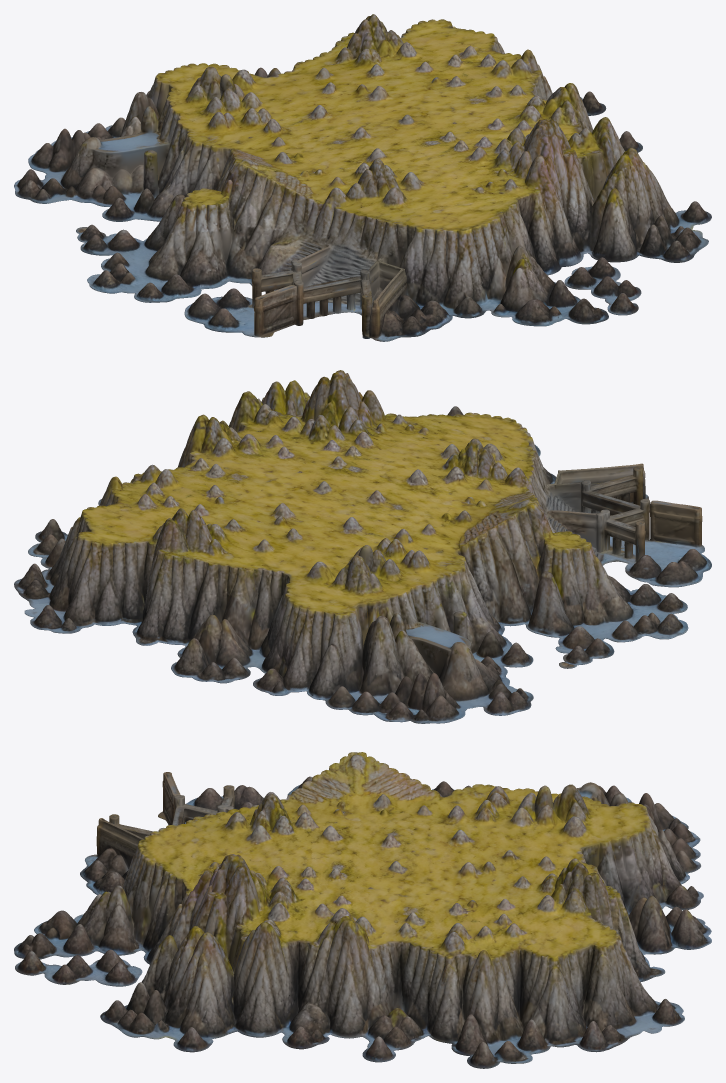
Rendered from island_craggy_4k_texture.glb.
The picture shows the model from 3 angles, top to bottom: view 1: azimuth 30°, elevation 25°; view 2: azimuth 150°, elevation 25°; view 3: azimuth 270°, elevation 25°; orthographic projection. The views are drawn at different scales.
Visible parts, largest first — view 1: material; view 2: material; view 3: material.
Boxes of the visible parts, <box> form: material: <box>14,14,711,341</box>; material: <box>14,370,711,723</box>; material: <box>14,752,711,1068</box>.
Size of the model in its own units: 1.04 by 0.2063 by 1.03.
Materials: 1 (1 with a texture image).
